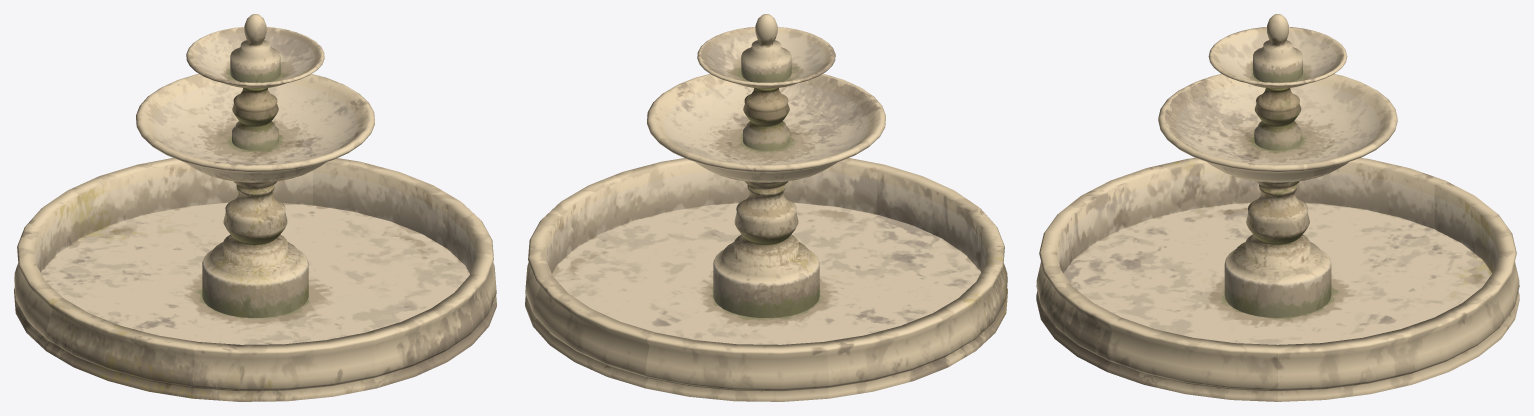
The model's file is fountain_01_textured.fbx.
3 views of the same model, side by side, from view 1: azimuth 30°, elevation 25°; view 2: azimuth 150°, elevation 25°; view 3: azimuth 270°, elevation 25° (orthographic).
Parts seen in each view (by area): view 1: Sphere.010; view 2: Sphere.010; view 3: Sphere.010.
Boxes of the visible parts, x1=… form: Sphere.010: x1=14, y1=14, x2=496, y2=401; Sphere.010: x1=525, y1=14, x2=1007, y2=401; Sphere.010: x1=1036, y1=14, x2=1519, y2=401.
Bounding box in the file's own units: 483 × 314 × 483.
2 materials, 1 textured.
